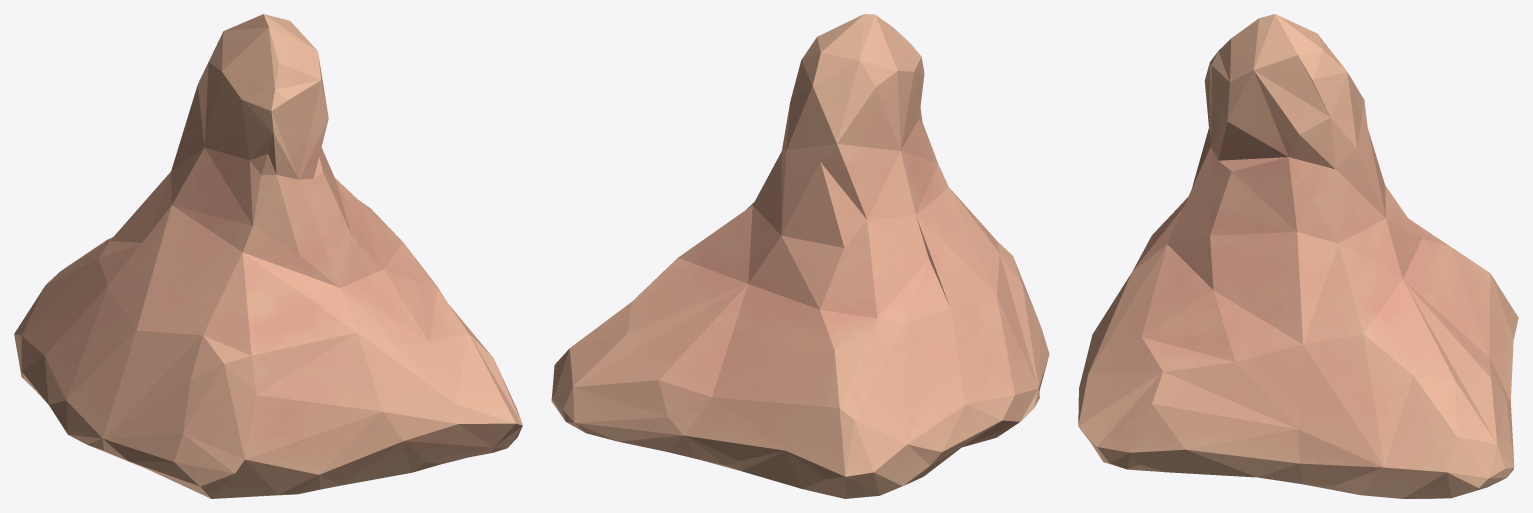
File: ROK0110037.fbx
3 views of the same model, side by side, from view 1: azimuth 30°, elevation 25°; view 2: azimuth 150°, elevation 25°; view 3: azimuth 270°, elevation 25° (orthographic). The views are drawn at different scales.
Visible parts, largest first — view 1: smROK0110037; view 2: smROK0110037; view 3: smROK0110037.
Part boxes in pixels (x1,y1,x2,y2): smROK0110037: [14, 14, 522, 498]; smROK0110037: [551, 14, 1049, 498]; smROK0110037: [1078, 14, 1518, 498].
Bounding box in the file's own units: 293 × 272 × 281.
Materials: 1 (1 with a texture image).
